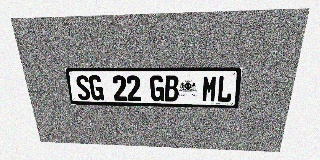2: (112, 75, 127, 101), (126, 75, 141, 101)
B: (164, 75, 179, 102)
G: (88, 75, 104, 100), (150, 75, 164, 101)
L: (216, 75, 234, 102)
M: (201, 75, 218, 102)
S: (75, 75, 91, 100)
